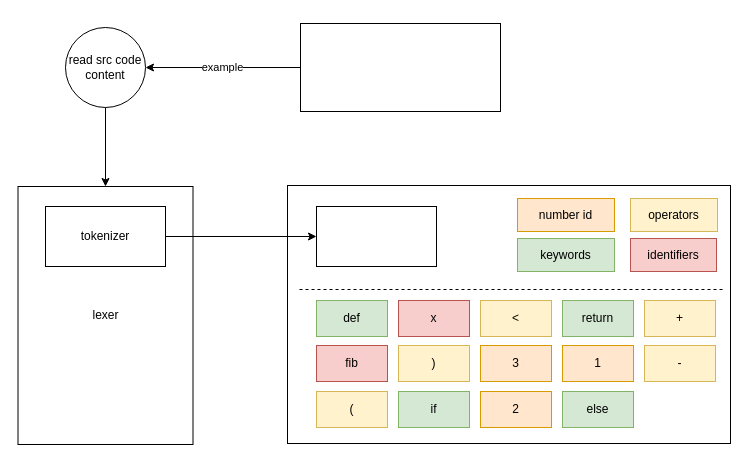
This 748x462 diagram has some shape labels left out. The centre of each missing label's shape, as x and y in pixels:
def fib(x) if x < 3 then return 1 else fib(x-1) + fib(x-2): point 400,67
list of tokens: point 376,236
